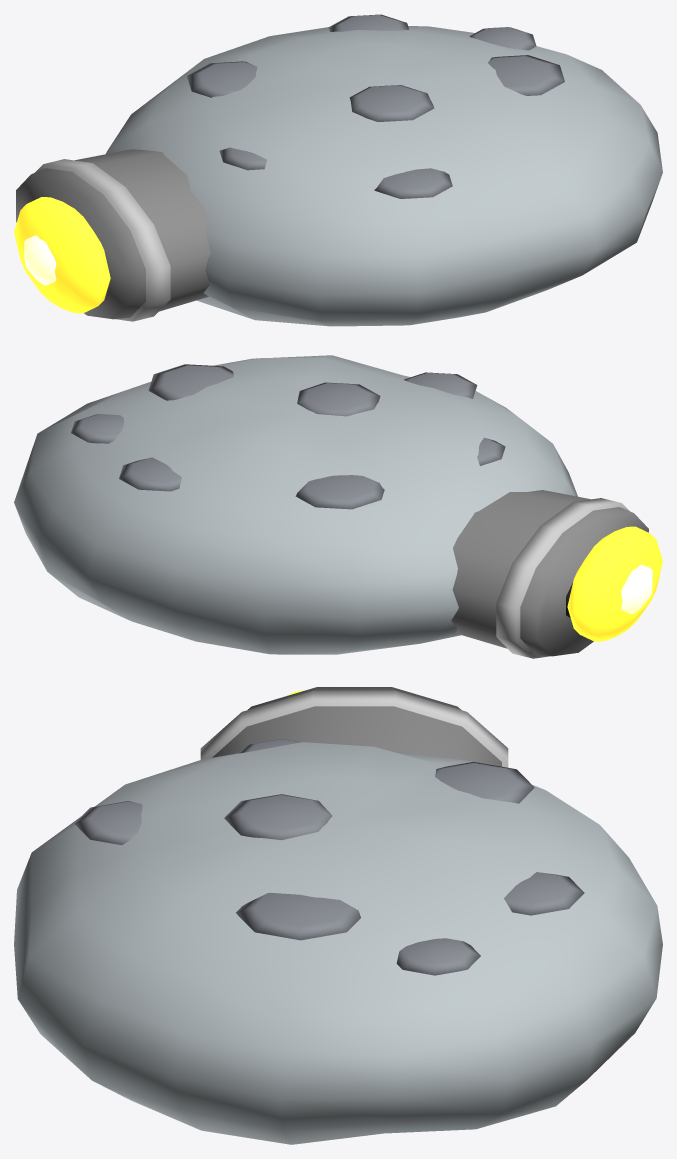
The model's file is newshk-1-f2.glb.
The picture shows the model from 3 angles, top to bottom: view 1: azimuth 30°, elevation 25°; view 2: azimuth 150°, elevation 25°; view 3: azimuth 270°, elevation 25°; orthographic projection. The views are drawn at different scales.
Parts seen in each view (by area): view 1: newshk-1-f2, newshk-1-f2-flash-39; view 2: newshk-1-f2, newshk-1-f2-flash-39; view 3: newshk-1-f2.
Part boxes in pixels (box(x1,y1,x2,y2)): newshk-1-f2: box(16, 14, 662, 326); newshk-1-f2-flash-39: box(14, 197, 110, 313); newshk-1-f2: box(14, 355, 648, 658); newshk-1-f2-flash-39: box(567, 526, 662, 641); newshk-1-f2: box(14, 687, 662, 1144).
Size of the model in its own units: 1.9 by 0.609 by 1.41.
